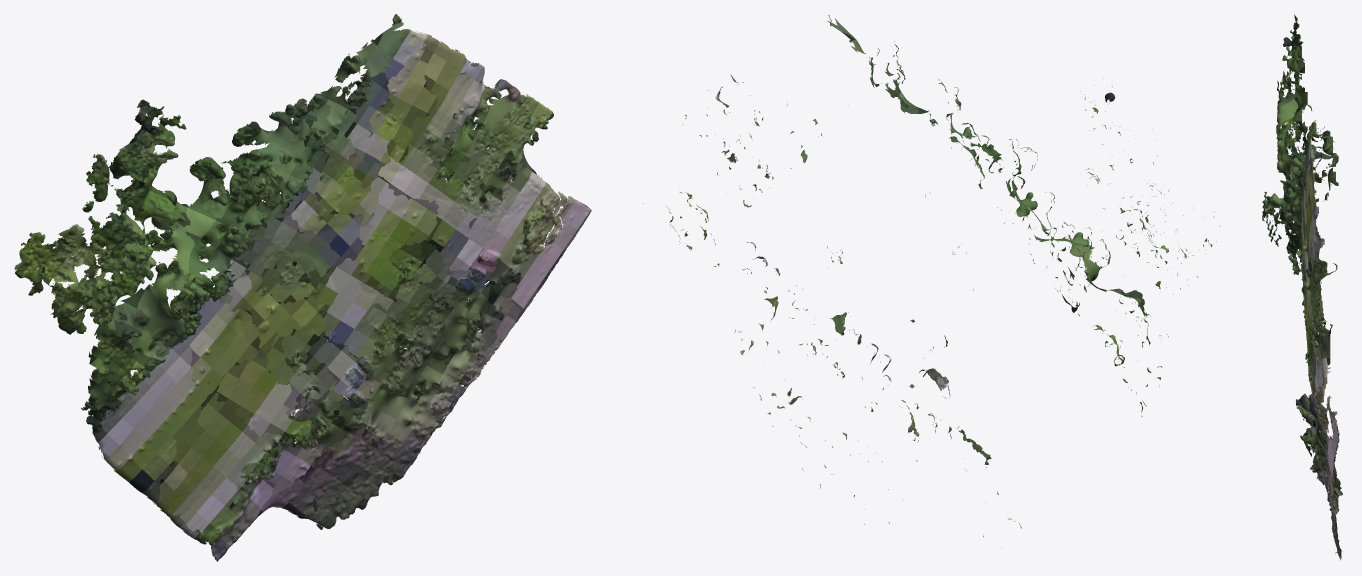
3 views of the same model, side by side, from view 1: azimuth 30°, elevation 25°; view 2: azimuth 150°, elevation 25°; view 3: azimuth 270°, elevation 25° (orthographic). The views are drawn at different scales.
Visible parts, largest first — view 1: Node; view 2: Node; view 3: Node.
Part boxes in pixels (bbox=[...]): Node: bbox=[14, 14, 591, 561]; Node: bbox=[643, 15, 1220, 548]; Node: bbox=[1262, 14, 1342, 560].
Size of the model in its own units: 130 by 106 by 17.93.
Materials: 10 (10 with a texture image).
